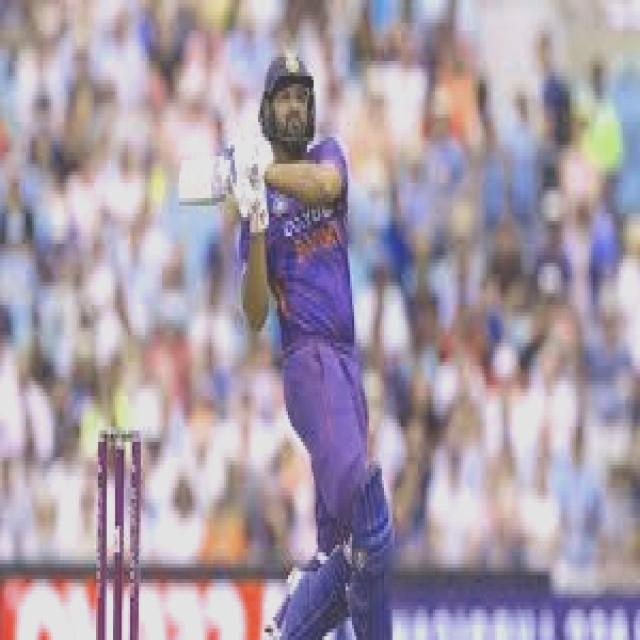toe: (175, 156, 189, 210)
